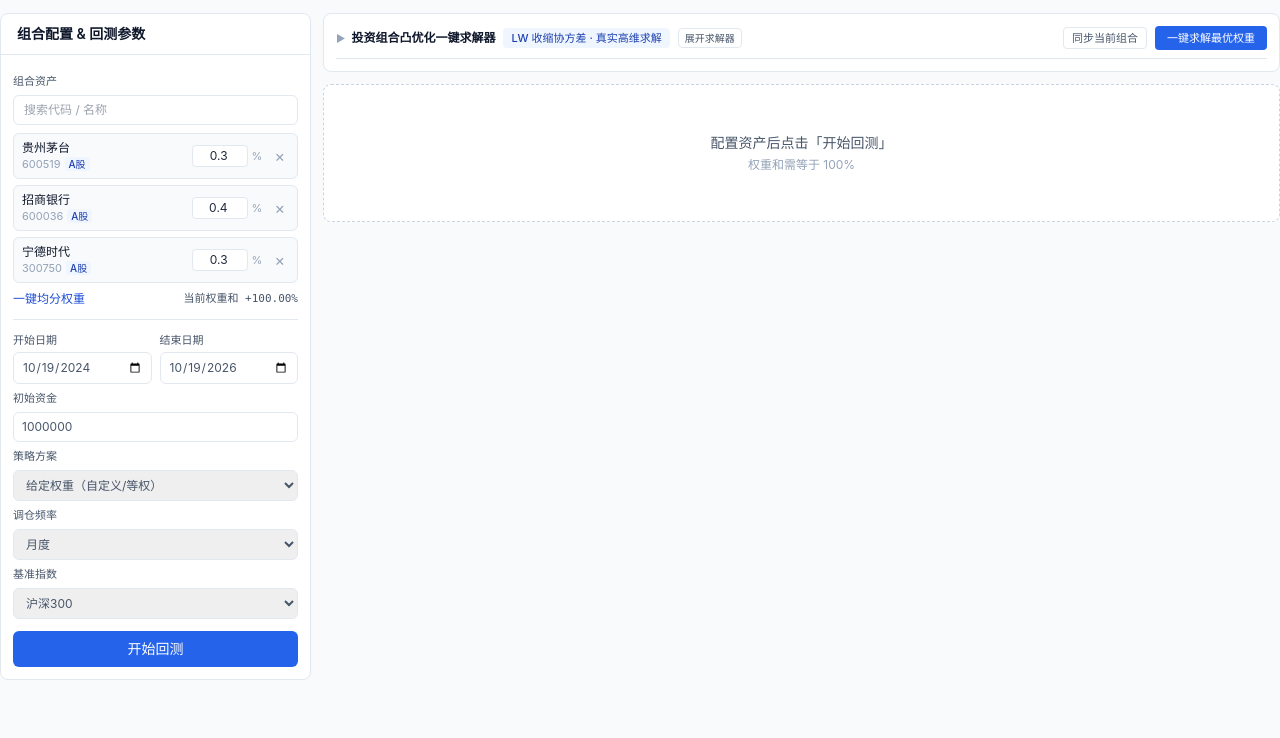
PortfolioBacktest Workbench › 切换至 Tab 3 (Trades & Friction) 正确展示单期换手与摩擦归因
What coordinates should you click on to do the following:
click the button "开始回测"
I would click on:
 (156, 649)
Its box is x1=13 y1=631 x2=298 y2=667.
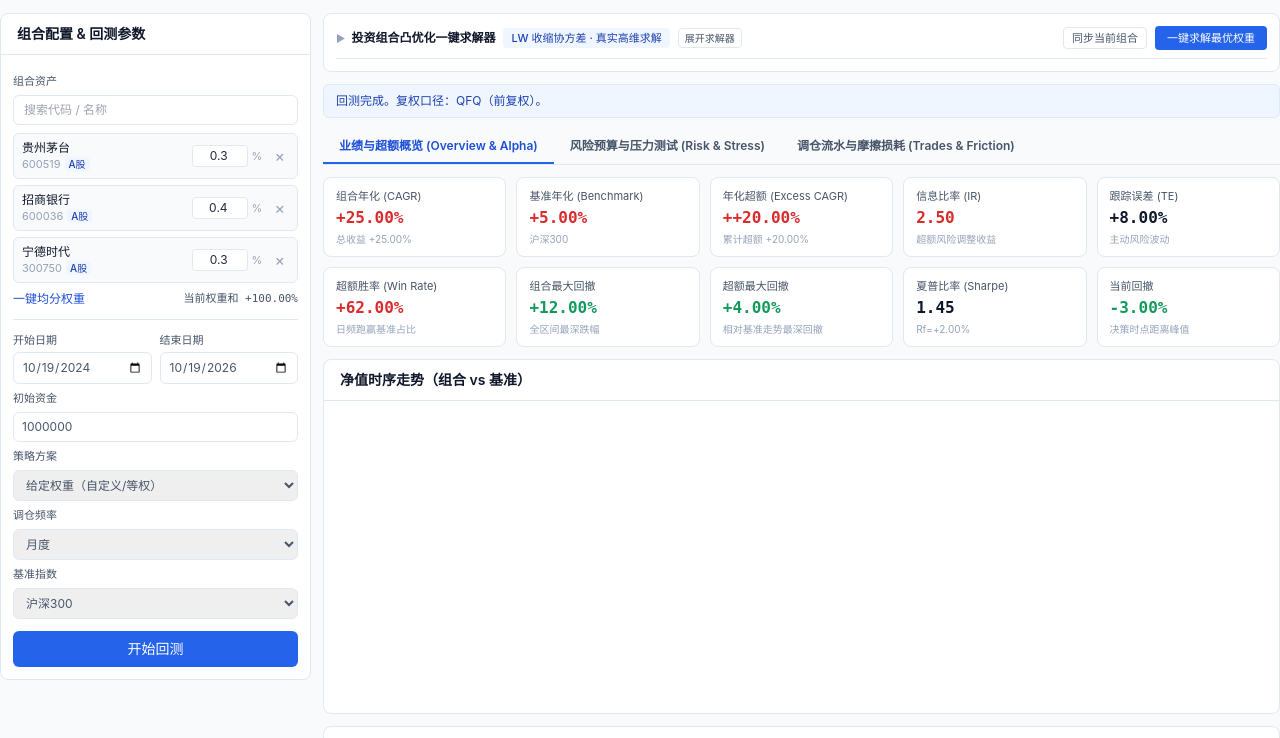
Now the button "调仓流水与摩擦损耗 (Trades & Friction)" is shown
Note: 点击切换至 Tab 3
What coordinates should you click on to do the following:
click the button "调仓流水与摩擦损耗 (Trades & Friction)"
I would click on:
 (906, 147)
Its box is x1=781 y1=130 x2=1031 y2=164.
(page scrolled)
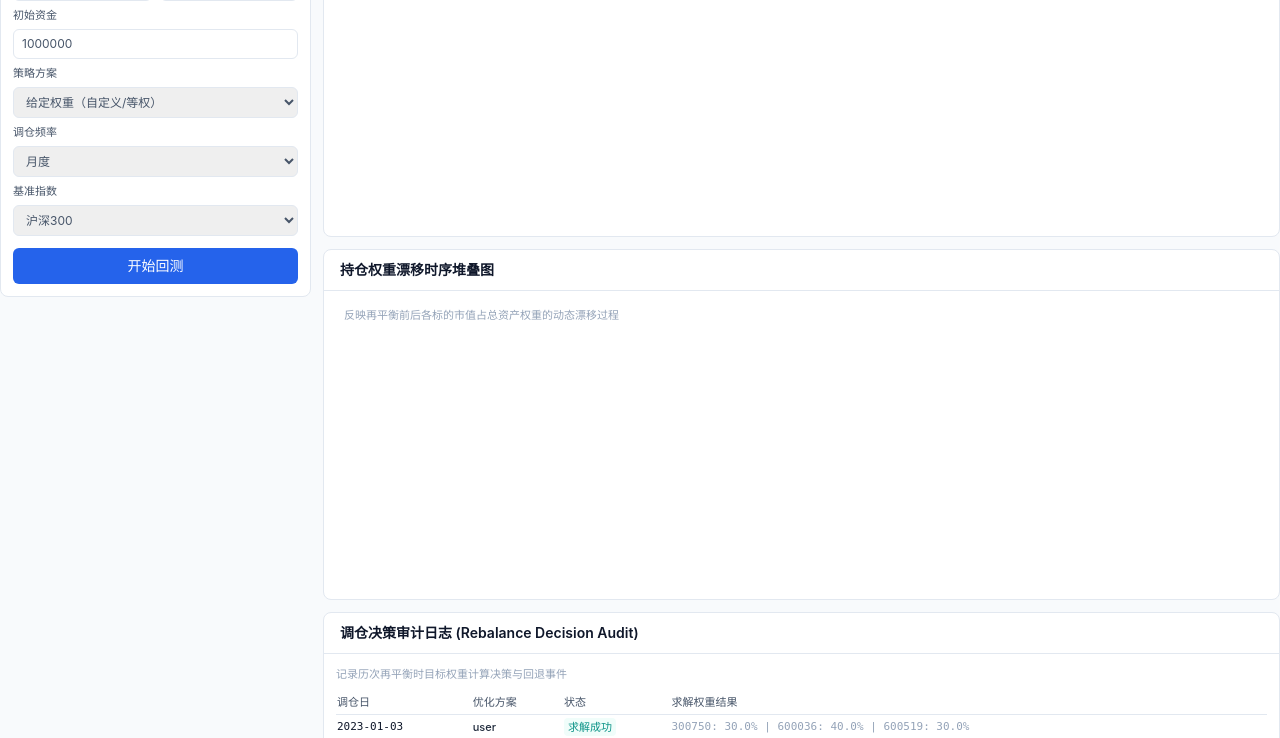
Now the heading "持仓权重漂移时序堆叠图" is shown, box x1=340 y1=260 x2=494 y2=280
Now the heading "调仓决策审计日志 (Rebalance Decision Audit)" is shown, box x1=340 y1=623 x2=639 y2=643
